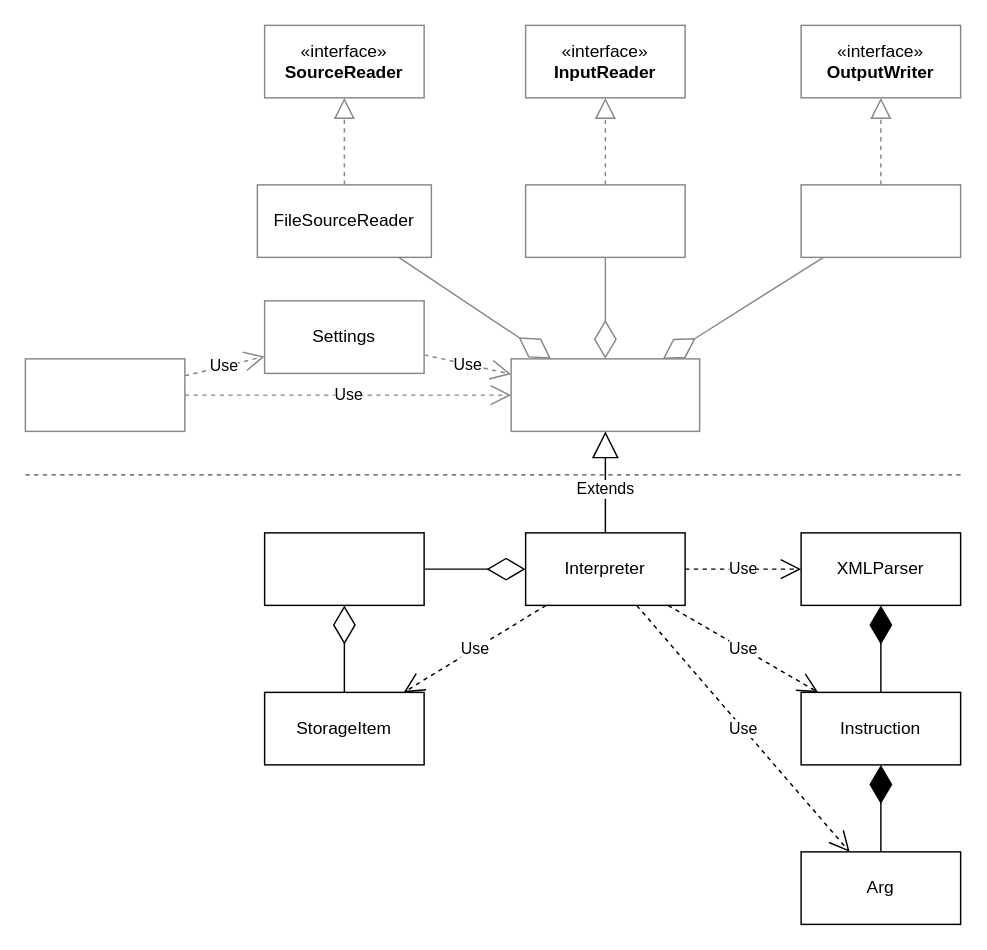
Some shapes in this 987 by 950 pixel diagram are drawn without their labels. The shapes that lost their labels are listed below. From the top down, each one's centre as x and y in pixels, then its label:
At pixel 604 220: "FileInputReader".
At pixel 880 220: "StreamWriter".
At pixel 104 394: "Engine".
At pixel 605 394: "AbstractInterpreter".
At pixel 343 568: "Storage".
